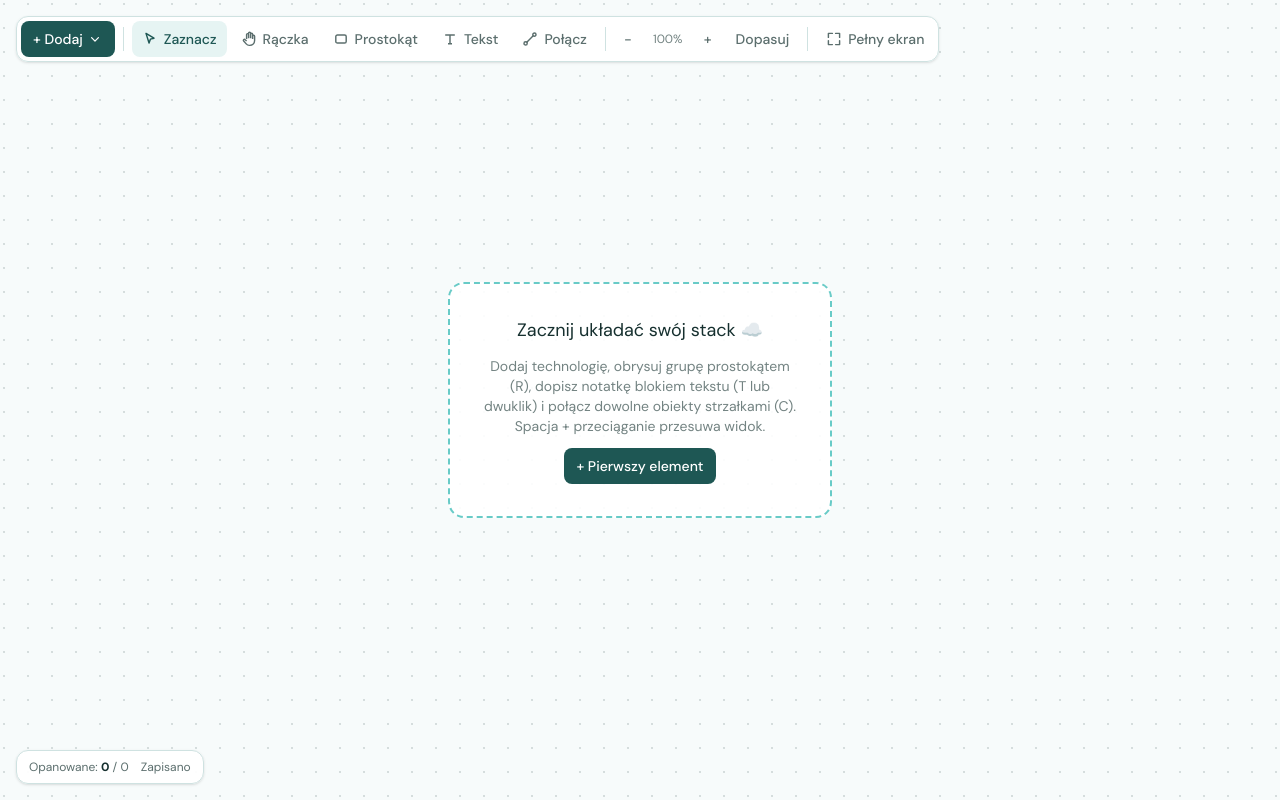
Test: karty stacku › + Dodaj → Element stacku dodaje kartę, otwiera panel i zapisuje ją w bazie
The image size is (1280, 800).
Check: the text "Zacznij układać swój stack ☁️" is shown, box [517,316,763,344]
Click the button "+ Dodaj".
click(68, 39)  # box [21,21,115,57]
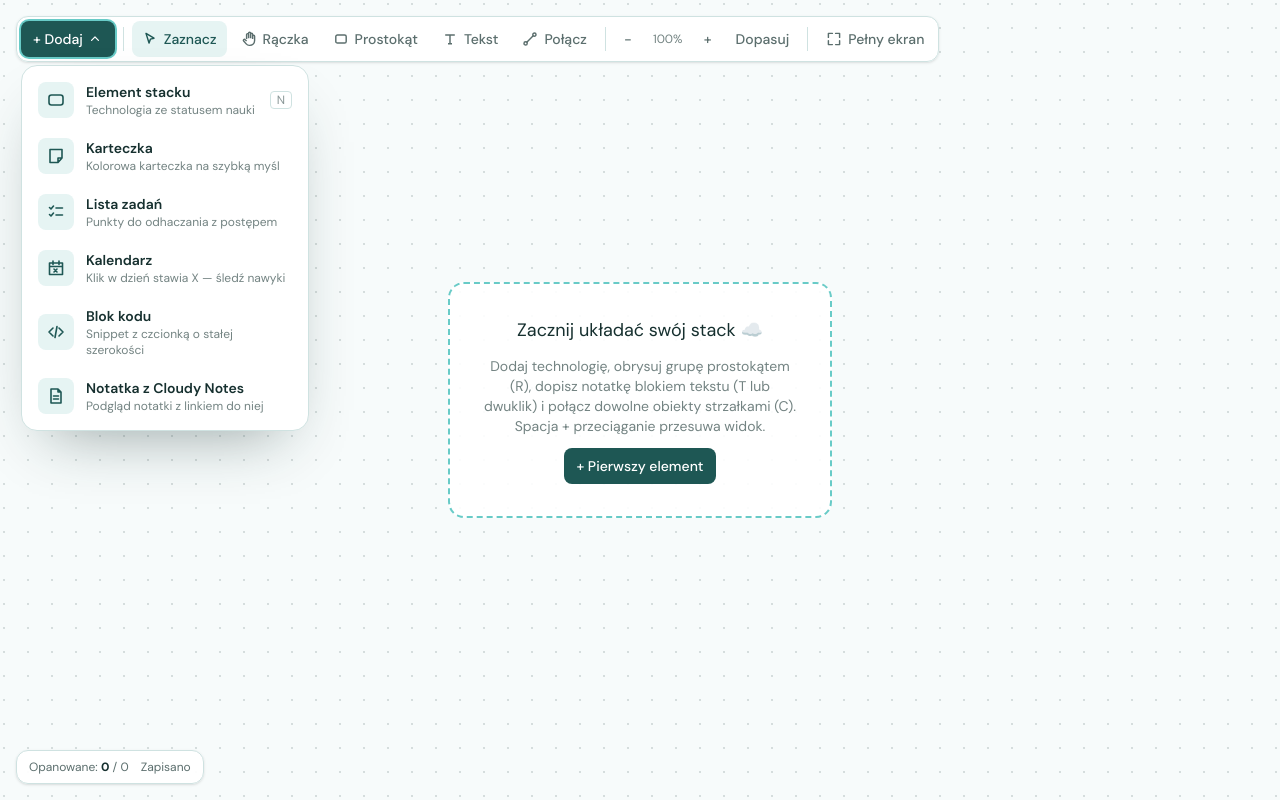
Click the menu item "Element stacku Technologia ze statusem nauki N".
click(165, 100)  # box [28,72,302,128]
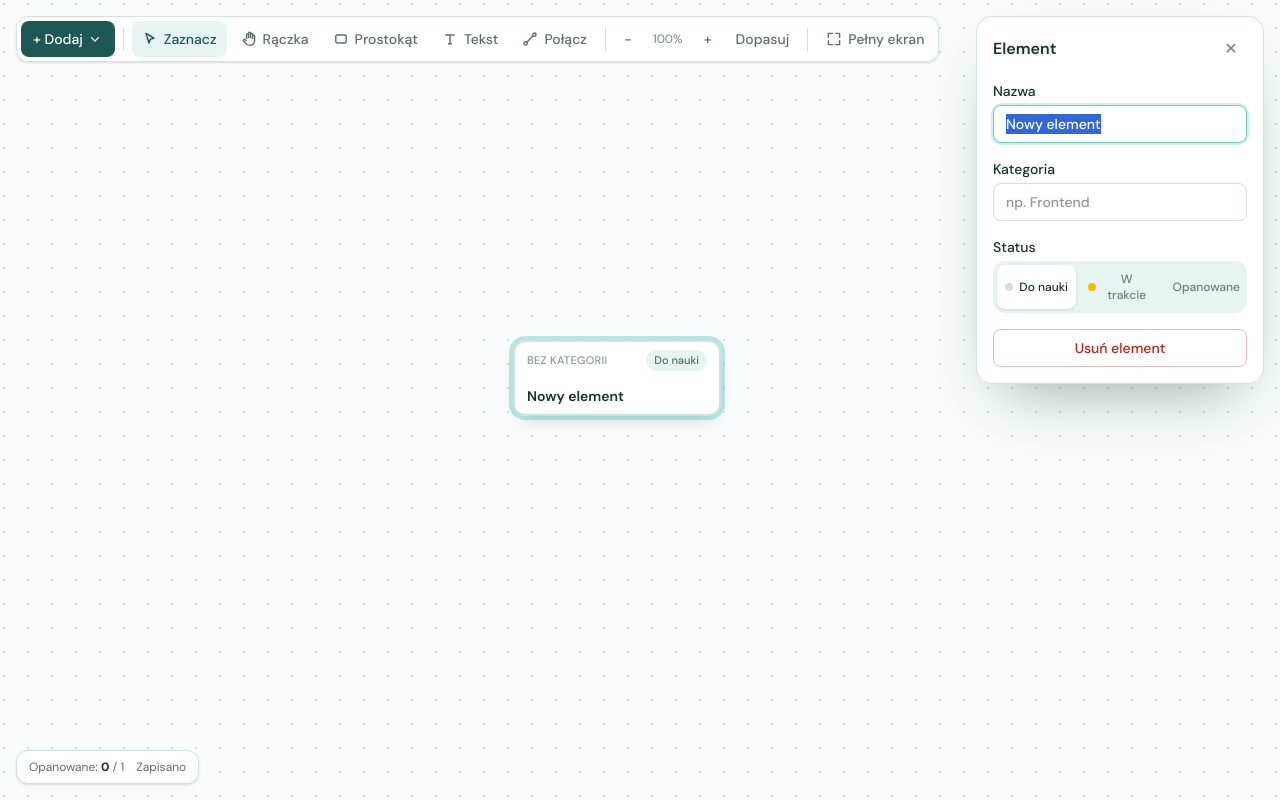
Check: the text "Nowy element" is shown, box [527,387,624,405]
Check: the text "Zacznij układać swój stack ☁️" is gone
